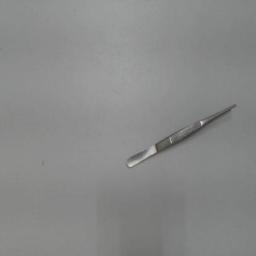Gillies Toothed Dissector: (118, 96, 242, 174)
